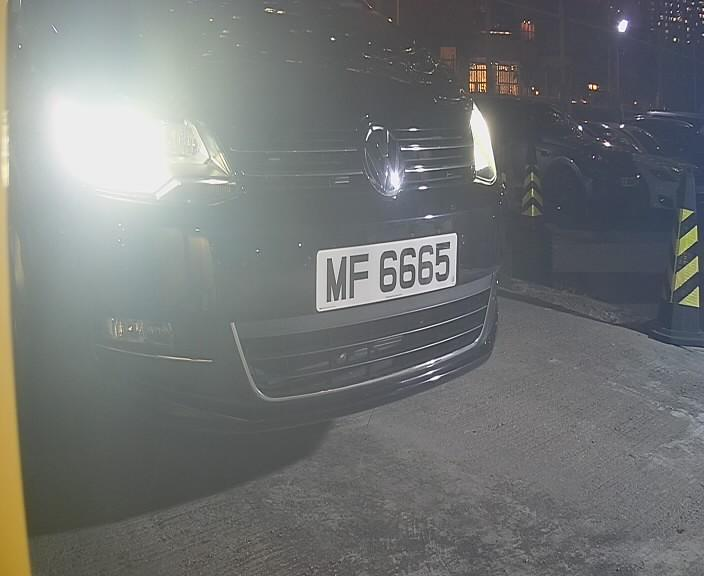privatecar: (29, 1, 513, 453)
